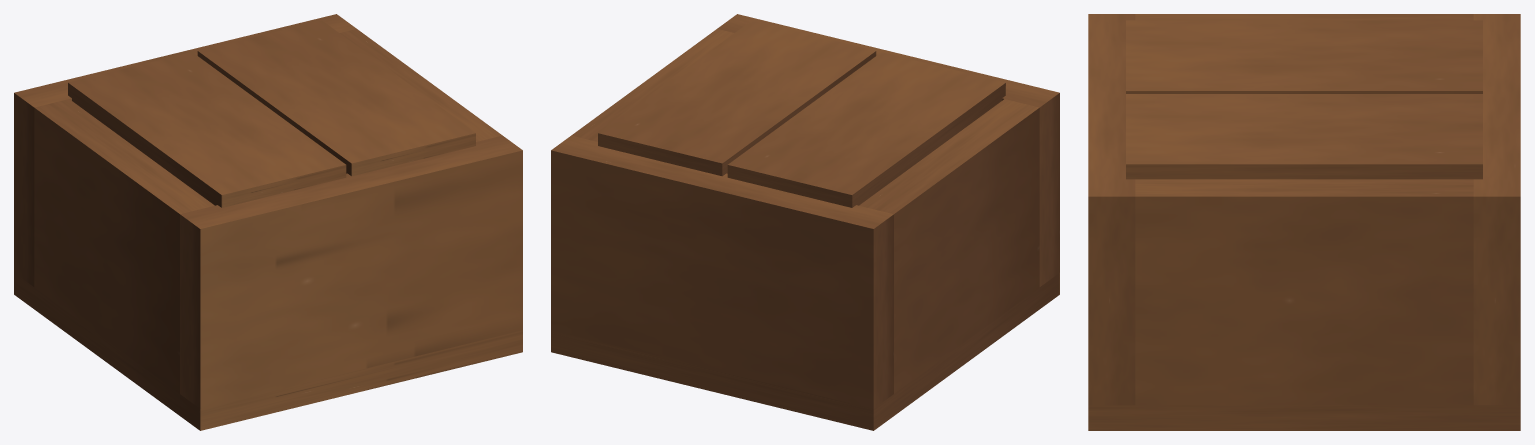
The model's file is terrain_crate.2.glb.
3 views of the same model, side by side, from view 1: azimuth 30°, elevation 25°; view 2: azimuth 150°, elevation 25°; view 3: azimuth 270°, elevation 25° (orthographic). The views are drawn at different scales.
Parts seen in each view (by area): view 1: terrain_crate.2; view 2: terrain_crate.2; view 3: terrain_crate.2.
Part boxes in pixels (x1,y1,x2,y2): terrain_crate.2: (14,14,522,430); terrain_crate.2: (551,14,1059,430); terrain_crate.2: (1088,14,1520,430).
Bounding box in the file's own units: 0.92 × 0.585 × 0.92.
1 material, 1 textured.
